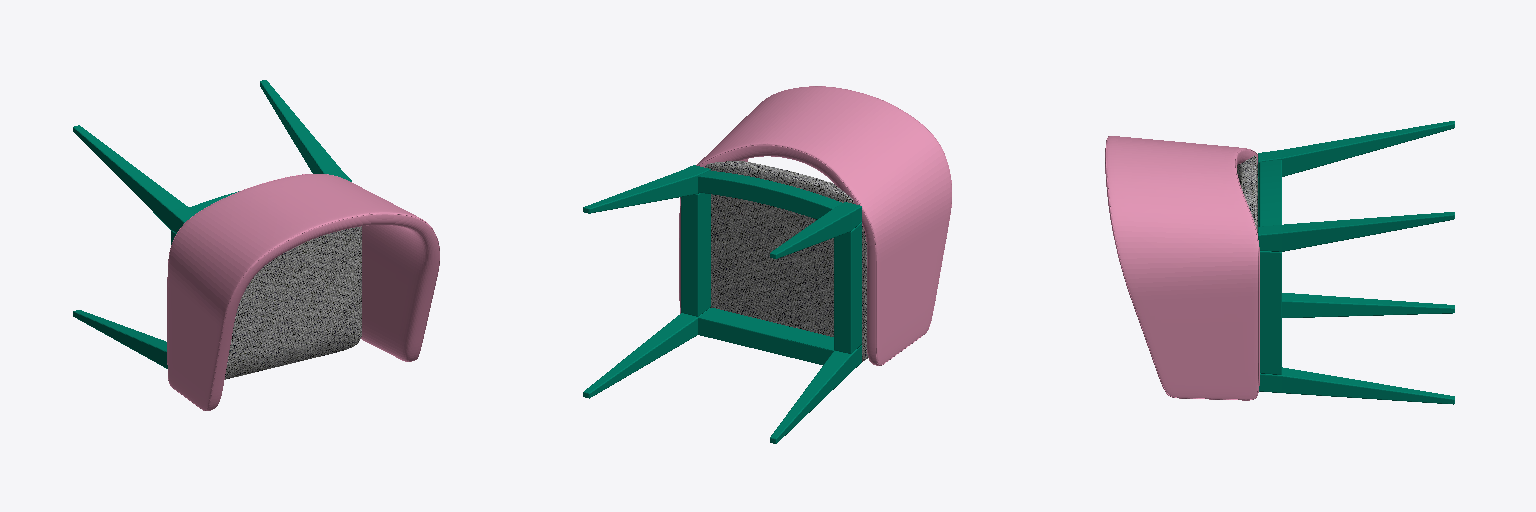
3 renders of one model, left to right at view 1: azimuth 30°, elevation 25°; view 2: azimuth 150°, elevation 25°; view 3: azimuth 270°, elevation 25°, orthographic.
Visible parts, largest first — view 1: Obj3d66_639892_1_328, Obj3d66_639892_2_545, Obj3d66_639892_5_587, Obj3d66_639892_4_708; view 2: Obj3d66_639892_1_328, Obj3d66_639892_4_708, Obj3d66_639892_2_545, Obj3d66_639892_3_755, Obj3d66_639892_5_587; view 3: Obj3d66_639892_1_328, Obj3d66_639892_4_708, Obj3d66_639892_3_755, Obj3d66_639892_2_545.
Boxes of the visible parts, x1=… form: Obj3d66_639892_1_328: x1=167, y1=174, x2=439, y2=410; Obj3d66_639892_2_545: x1=225, y1=226, x2=361, y2=379; Obj3d66_639892_5_587: x1=207, y1=214, x2=439, y2=410; Obj3d66_639892_4_708: x1=73, y1=80, x2=351, y2=368; Obj3d66_639892_1_328: x1=679, y1=86, x2=951, y2=365; Obj3d66_639892_4_708: x1=583, y1=165, x2=861, y2=443; Obj3d66_639892_2_545: x1=705, y1=161, x2=867, y2=361; Obj3d66_639892_3_755: x1=698, y1=171, x2=841, y2=219; Obj3d66_639892_5_587: x1=680, y1=145, x2=877, y2=365; Obj3d66_639892_1_328: x1=1105, y1=136, x2=1259, y2=400; Obj3d66_639892_4_708: x1=1258, y1=121, x2=1454, y2=404; Obj3d66_639892_3_755: x1=1259, y1=160, x2=1281, y2=226; Obj3d66_639892_2_545: x1=1237, y1=155, x2=1257, y2=232.
Bounding box in the file's own units: 55.6 × 49.88 × 78.1.
Materials: 3 (2 with a texture image).